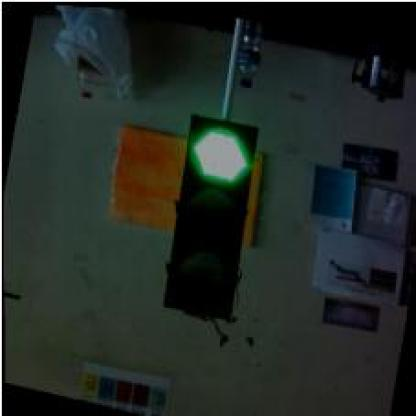green: (155, 107, 259, 318)
